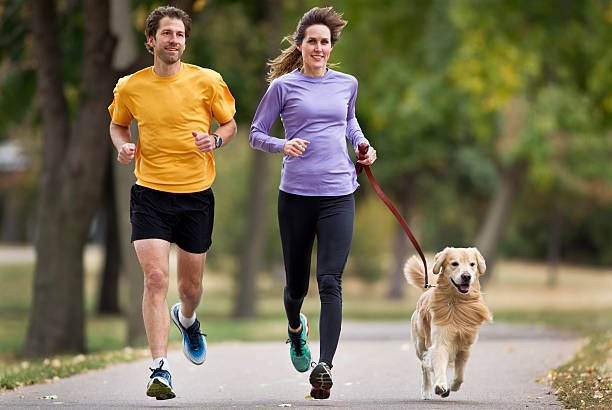dog: (399, 238, 501, 410)
person: (250, 7, 397, 410), (100, 6, 239, 410)
